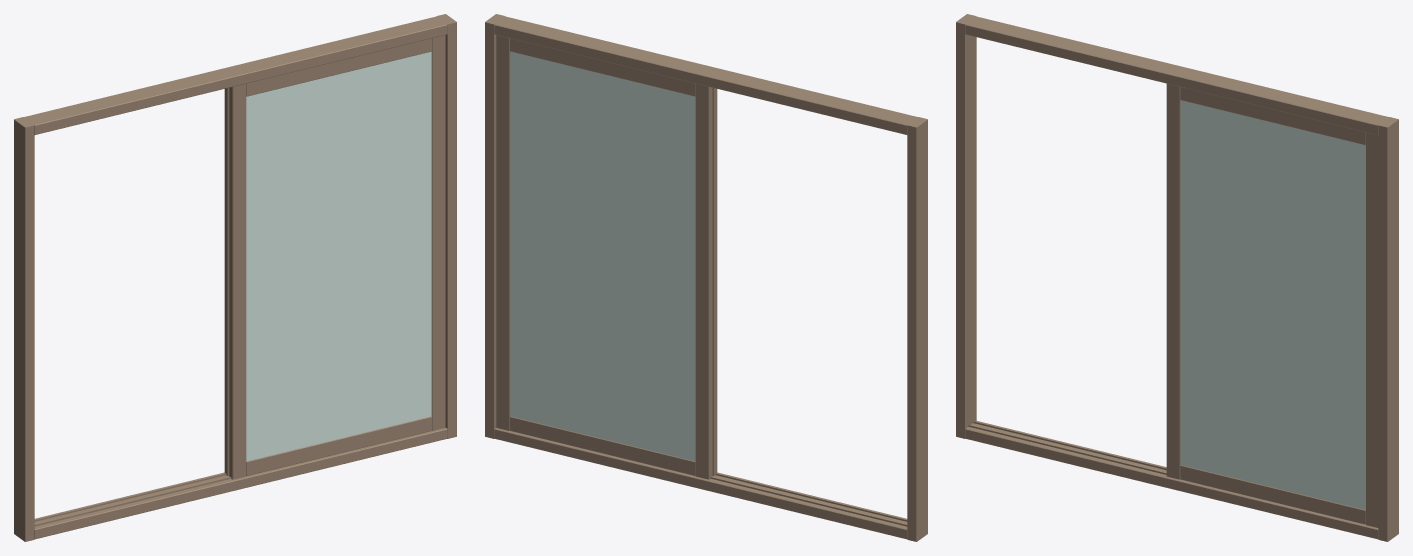
The model's file is co-S110P-2-quartz-1019-ouvert.glb.
3 renders of one model, left to right at view 1: azimuth 30°, elevation 25°; view 2: azimuth 150°, elevation 25°; view 3: azimuth 330°, elevation 25°, orthographic.
Parts seen in each view (by area): view 1: verre, structure; view 2: verre, structure; view 3: verre, structure.
Boxes of the visible parts, box(x1,y1,x2,y2) form: verre: box(246, 51, 431, 461); structure: box(14, 14, 456, 541); verre: box(510, 51, 695, 461); structure: box(485, 14, 927, 541); verre: box(1180, 100, 1365, 509); structure: box(956, 14, 1398, 541).
Bounding box in the file's own units: 2.4 × 2.2 × 0.11.
